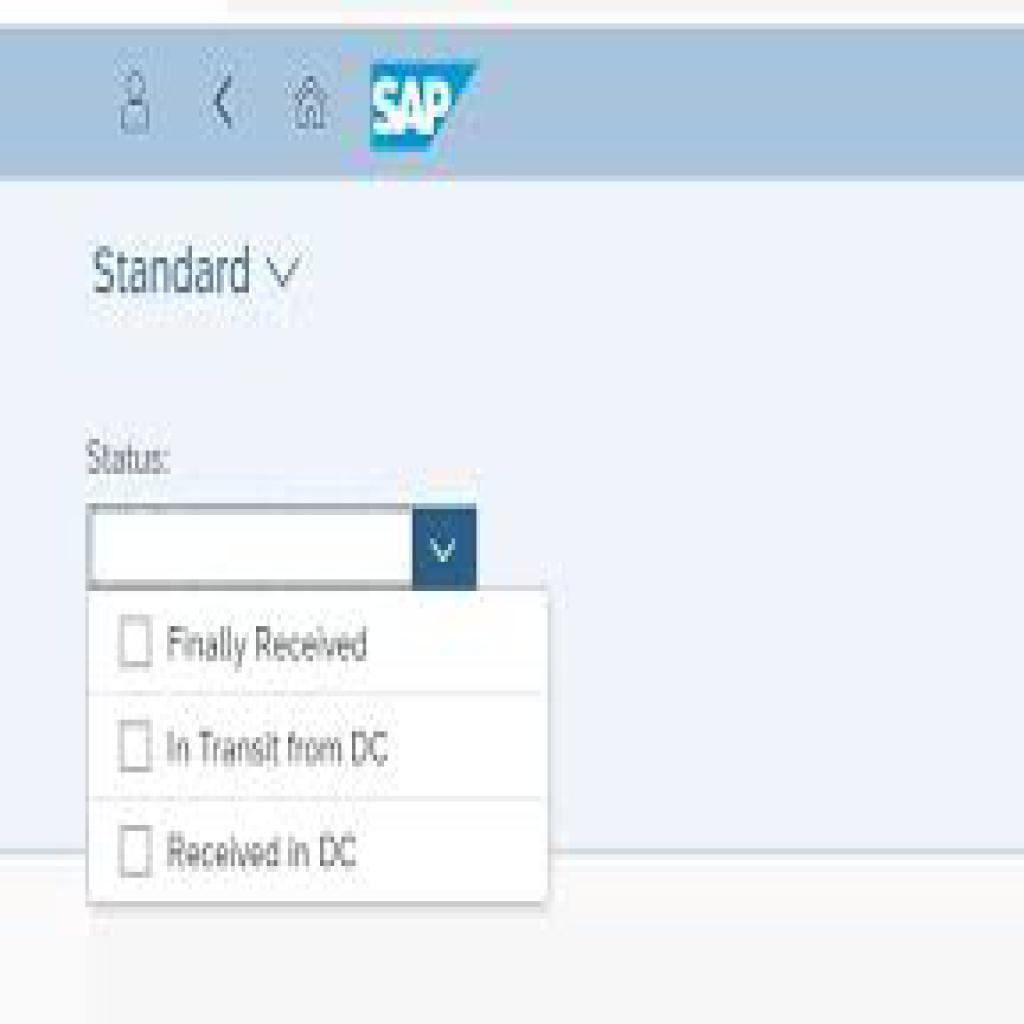checkbox: (121, 826, 155, 881), (120, 617, 152, 671), (121, 723, 151, 773)
dropdown: (87, 507, 478, 591), (88, 230, 316, 323)
label: (164, 723, 393, 777), (163, 826, 359, 877), (164, 623, 372, 670)
